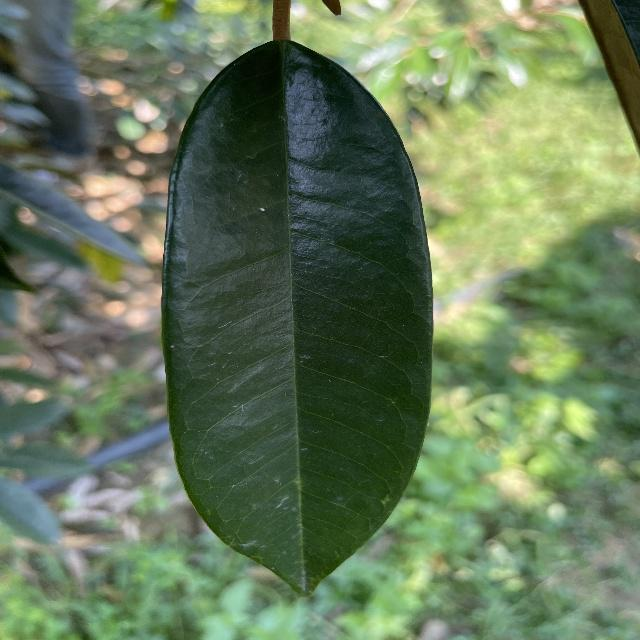No Disease: (147, 25, 439, 609)
